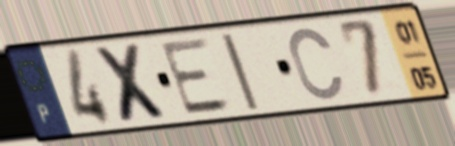4: (65, 44, 112, 131)
7: (335, 15, 388, 100)
C: (286, 25, 347, 103)
E: (157, 35, 236, 119)
I: (216, 30, 263, 114)
X: (90, 41, 176, 126)
